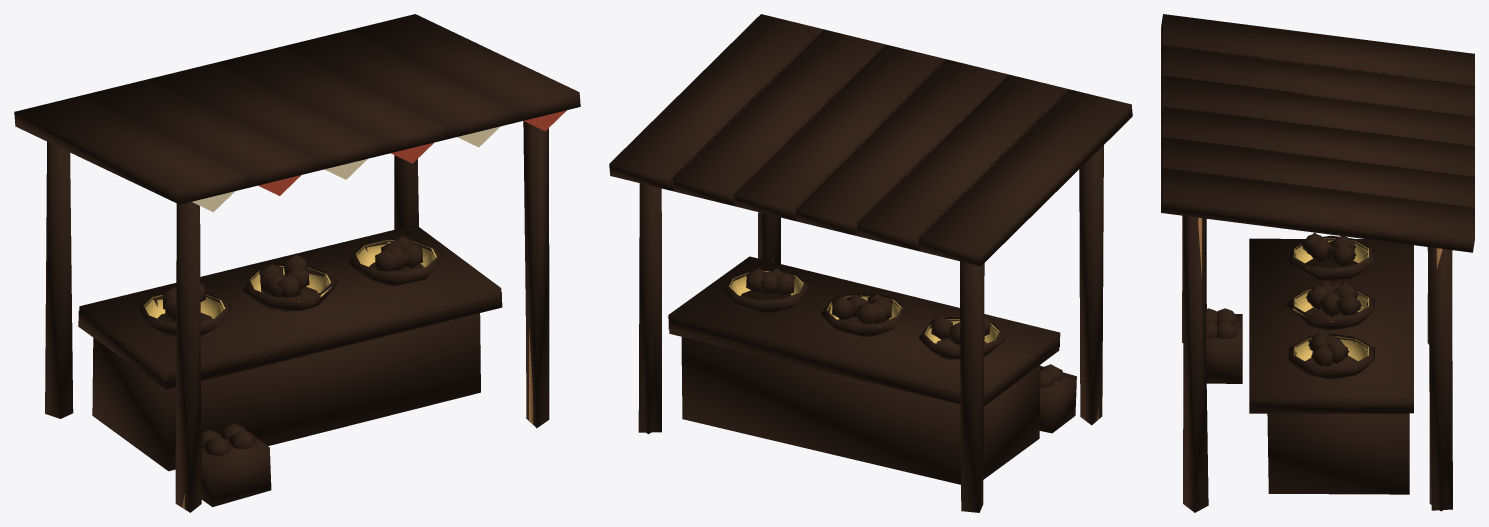
Rendered from stall.glb.
3 renders of one model, left to right at view 1: azimuth 30°, elevation 25°; view 2: azimuth 150°, elevation 25°; view 3: azimuth 270°, elevation 25°, orthographic. The views are drawn at different scales.
Parts seen in each view (by area): view 1: stall_LOD1_outline, stall_outline, stall; view 2: stall_outline, stall_LOD1_outline, stall; view 3: stall_outline, stall_LOD1_outline, stall.
Part boxes in pixels (x1,y1,x2,y2): stall_LOD1_outline: [45, 121, 549, 512]; stall_outline: [14, 14, 580, 466]; stall: [144, 110, 566, 508]; stall_outline: [609, 14, 1132, 437]; stall_LOD1_outline: [638, 145, 1103, 512]; stall: [729, 259, 1098, 420]; stall_outline: [1161, 14, 1474, 511]; stall_LOD1_outline: [1182, 215, 1452, 512]; stall: [1198, 217, 1442, 361].
Size of what is drawn, in the model's own units: 3.22 by 2.6 by 2.3.
